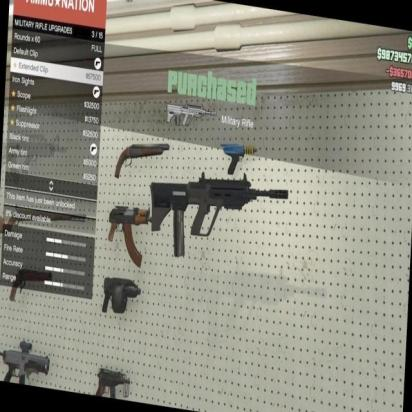Gun: (148, 169, 289, 258)
